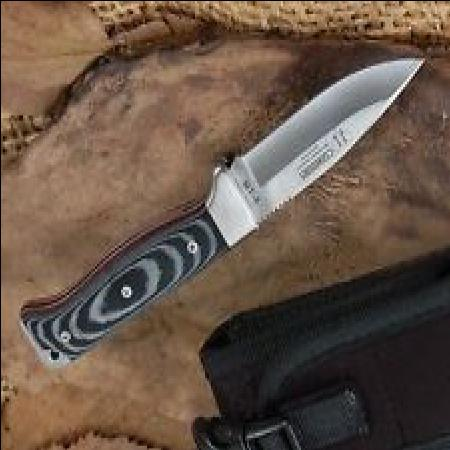long weapon: (194, 52, 432, 252)
